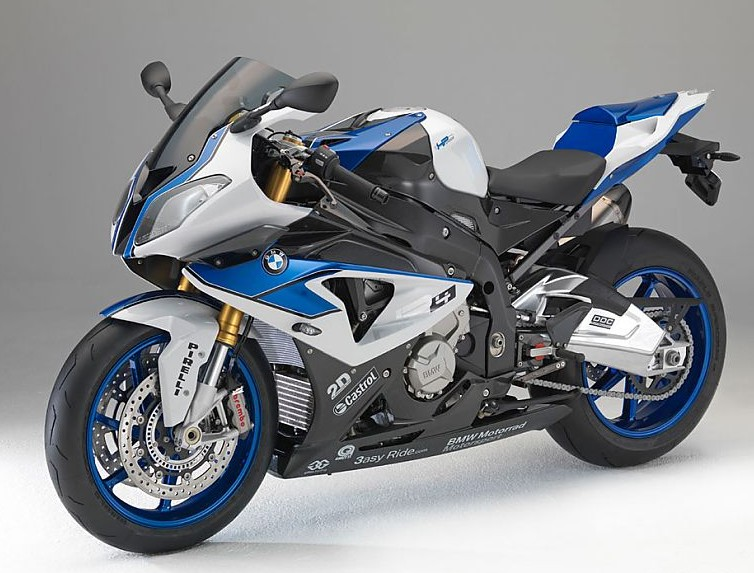motor: (71, 64, 714, 551)
